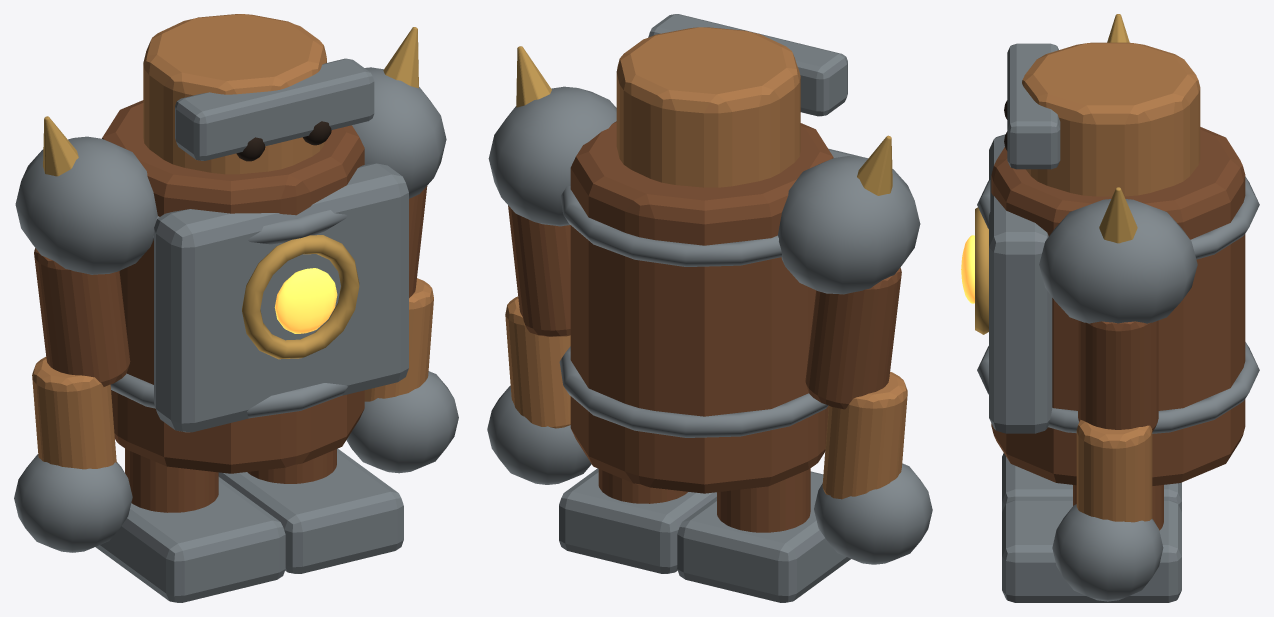
Rendered from training-yard-guardian.glb.
3 renders of one model, left to right at view 1: azimuth 30°, elevation 25°; view 2: azimuth 150°, elevation 25°; view 3: azimuth 270°, elevation 25°, orthographic. The views are drawn at different scales.
Parts seen in each view (by area): view 1: chest_armor, body_core, head, shoulder_-1, foot_-1, foot_1, helmet_brow, upper_arm_-1, fist_-1, forearm_-1, fist_1, shoulder_1 (+10 smaller); view 2: body_core, head, shoulder_-1, foot_-1, shoulder_1, upper_arm_-1, foot_1, forearm_-1, fist_-1, reinforcement_0.76, upper_arm_1, forearm_1 (+7 smaller); view 3: body_core, head, shoulder_1, chest_armor, foot_1, upper_arm_1, fist_1, forearm_1, helmet_brow, reinforcement_0.76, foot_-1, reinforcement_1.45 (+5 smaller).
Boxes of the visible parts, bbox=[...] form: chest_armor: bbox=[154, 163, 408, 432]; body_core: bbox=[102, 100, 364, 473]; head: bbox=[143, 14, 326, 174]; shoulder_-1: bbox=[15, 136, 157, 274]; foot_-1: bbox=[95, 477, 285, 602]; foot_1: bbox=[218, 448, 403, 573]; helmet_brow: bbox=[175, 58, 374, 160]; upper_arm_-1: bbox=[34, 248, 130, 386]; fist_-1: bbox=[14, 454, 132, 552]; forearm_-1: bbox=[32, 356, 116, 469]; fist_1: bbox=[346, 371, 458, 473]; shoulder_1: bbox=[352, 67, 446, 198]; body_core: bbox=[570, 121, 833, 493]; head: bbox=[616, 27, 800, 187]; shoulder_-1: bbox=[777, 156, 920, 294]; foot_-1: bbox=[677, 471, 850, 602]; shoulder_1: bbox=[488, 86, 616, 226]; upper_arm_-1: bbox=[805, 267, 901, 409]; foot_1: bbox=[559, 468, 716, 573]; forearm_-1: bbox=[822, 372, 907, 499]; fist_-1: bbox=[814, 463, 932, 564]; reinforcement_0.76: bbox=[559, 346, 828, 437]; upper_arm_1: bbox=[508, 205, 570, 336]; forearm_1: bbox=[505, 296, 570, 428]; body_core: bbox=[991, 127, 1245, 485]; head: bbox=[1022, 42, 1200, 196]; shoulder_1: bbox=[1039, 199, 1197, 323]; chest_armor: bbox=[989, 134, 1052, 433]; foot_1: bbox=[1002, 500, 1181, 602]; upper_arm_1: bbox=[1078, 320, 1158, 431]; fist_1: bbox=[1052, 504, 1163, 601]; forearm_1: bbox=[1076, 420, 1152, 522]; helmet_brow: bbox=[1007, 43, 1060, 169]; reinforcement_0.76: bbox=[977, 342, 1259, 433]; foot_-1: bbox=[1002, 453, 1181, 511]; reinforcement_1.45: bbox=[977, 176, 1259, 259].
Bounding box in the file's own units: 1.82 × 1.99 × 1.13.
